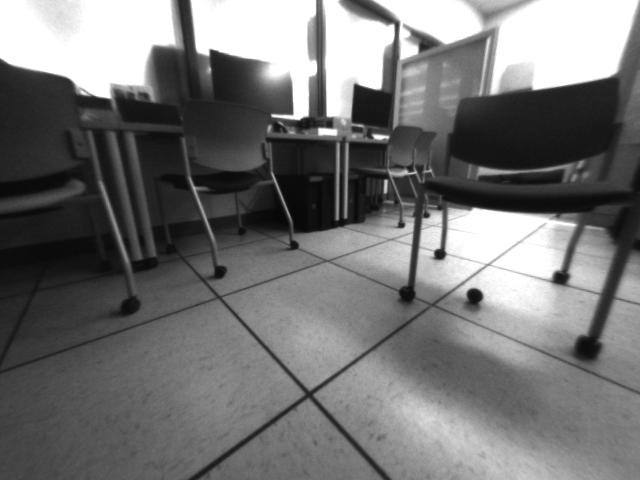dogtoy: (461, 282, 487, 310)
